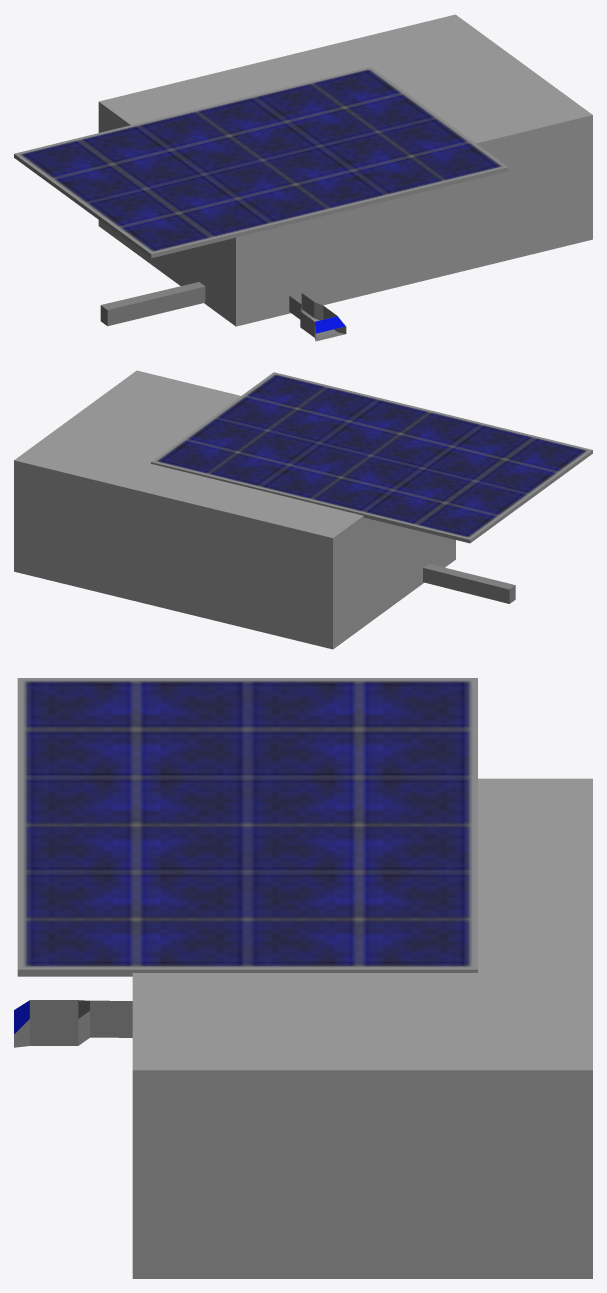
The model's file is bigSolarPanelrot.obj.
3 views of the same model, one above another, from view 1: azimuth 30°, elevation 25°; view 2: azimuth 150°, elevation 25°; view 3: azimuth 270°, elevation 25° (orthographic). The views are drawn at different scales.
Parts seen in each view (by area): view 1: panel, Minecraft_Block.005_Cube.005, Minecraft_Block_Cube, Minecraft_Block.004_Cube.004, Minecraft_Block.003_Cube.003, Minecraft_Block.001_Cube.001, main, Minecraft_Block.002_Cube.002; view 2: panel, Minecraft_Block.001_Cube.001, Minecraft_Block.003_Cube.003, Minecraft_Block.002_Cube.002, Minecraft_Block.005_Cube.005, Minecraft_Block_Cube, main; view 3: panel, Minecraft_Block.005_Cube.005, Minecraft_Block.003_Cube.003, Minecraft_Block.001_Cube.001, Minecraft_Block.002_Cube.002, main.
Boxes of the visible parts, x1=… form: panel: x1=14, y1=66, x2=508, y2=258; Minecraft_Block.005_Cube.005: x1=408, y1=65, x2=592, y2=268; Minecraft_Block_Cube: x1=167, y1=208, x2=354, y2=326; Minecraft_Block.004_Cube.004: x1=355, y1=179, x2=473, y2=297; Minecraft_Block.003_Cube.003: x1=337, y1=14, x2=523, y2=93; Minecraft_Block.001_Cube.001: x1=98, y1=72, x2=249, y2=275; main: x1=100, y1=282, x2=346, y2=341; Minecraft_Block.002_Cube.002: x1=218, y1=43, x2=368, y2=95; panel: x1=151, y1=372, x2=592, y2=543; Minecraft_Block.001_Cube.001: x1=226, y1=490, x2=394, y2=649; Minecraft_Block.003_Cube.003: x1=14, y1=415, x2=179, y2=597; Minecraft_Block.002_Cube.002: x1=120, y1=464, x2=256, y2=623; Minecraft_Block.005_Cube.005: x1=75, y1=370, x2=240, y2=440; Minecraft_Block_Cube: x1=394, y1=525, x2=455, y2=603; main: x1=423, y1=563, x2=515, y2=603; panel: x1=17, y1=678, x2=477, y2=976; Minecraft_Block.005_Cube.005: x1=132, y1=973, x2=362, y2=1278; Minecraft_Block.003_Cube.003: x1=363, y1=973, x2=592, y2=1278; Minecraft_Block.001_Cube.001: x1=478, y1=778, x2=592, y2=875; Minecraft_Block.002_Cube.002: x1=478, y1=876, x2=592, y2=972; main: x1=14, y1=1000, x2=132, y2=1047.
Bounding box in the file's own units: 4 × 1.02 × 2.52.
3 materials, 2 textured.
